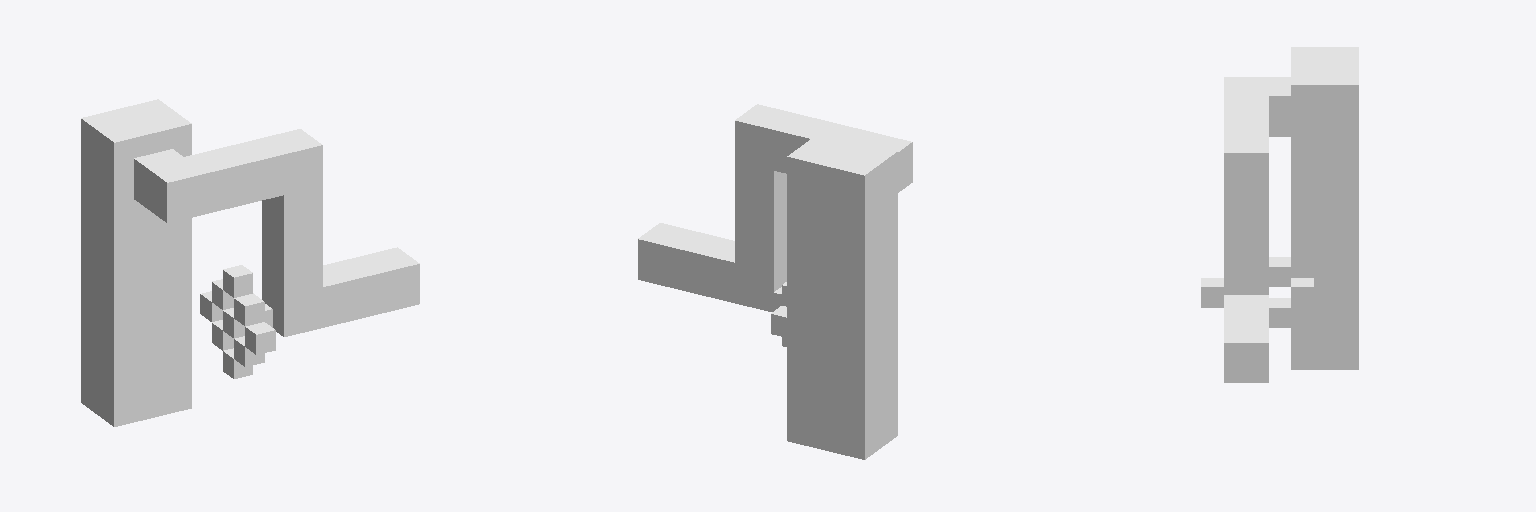
The model's file is bibelot_2_p_1.obj.
3 views of the same model, side by side, from view 1: azimuth 30°, elevation 25°; view 2: azimuth 150°, elevation 25°; view 3: azimuth 270°, elevation 25° (orthographic).
Size of the model in its own units: 14 by 14 by 7.